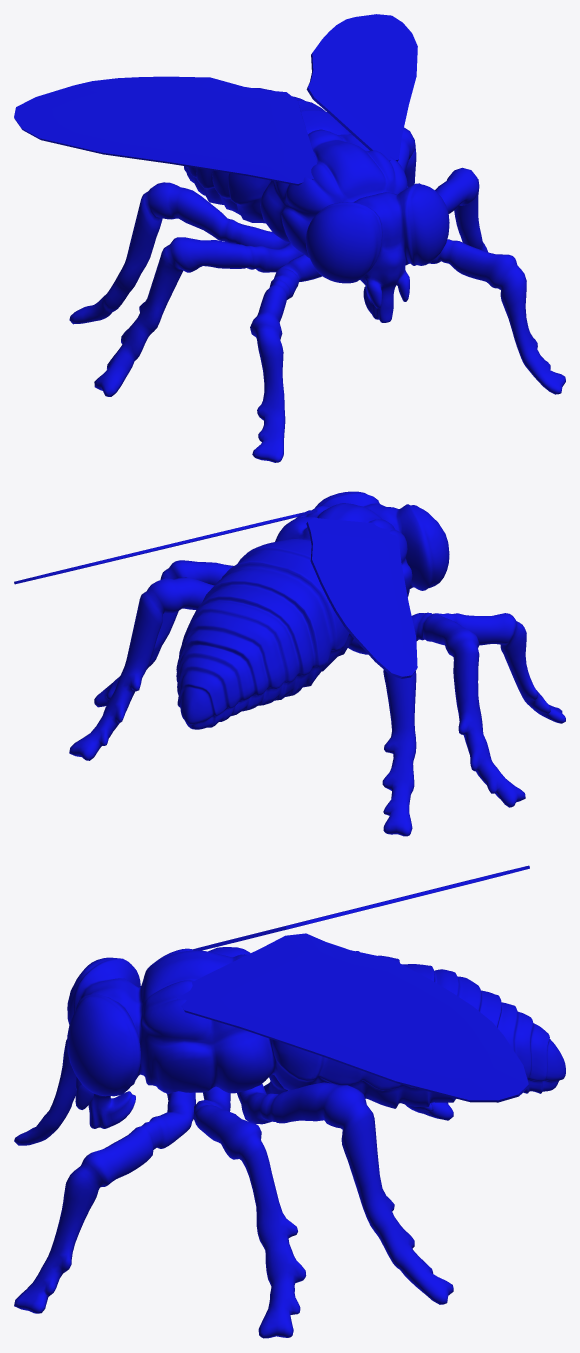
Rendered from bug-2.fbx.
The picture shows the model from 3 angles, top to bottom: view 1: azimuth 30°, elevation 25°; view 2: azimuth 150°, elevation 25°; view 3: azimuth 270°, elevation 25°; orthographic projection. The views are drawn at different scales.
Parts seen in each view (by area): view 1: 19912_Horse_fly_V1_, Plane, Plane.001; view 2: 19912_Horse_fly_V1_, Plane, Plane.001; view 3: 19912_Horse_fly_V1_, Plane.001, Plane.
Boxes of the visible parts, x1,y1,x2,y2 form: 19912_Horse_fly_V1_: (69, 88, 565, 462); Plane: (14, 76, 316, 185); Plane.001: (306, 14, 417, 161); 19912_Horse_fly_V1_: (69, 491, 565, 836); Plane: (306, 517, 417, 678); Plane.001: (14, 509, 317, 584); 19912_Horse_fly_V1_: (14, 947, 565, 1338); Plane.001: (176, 933, 529, 1102); Plane: (192, 865, 529, 950).
Bounding box in the file's own units: 1037 × 592 × 988.
